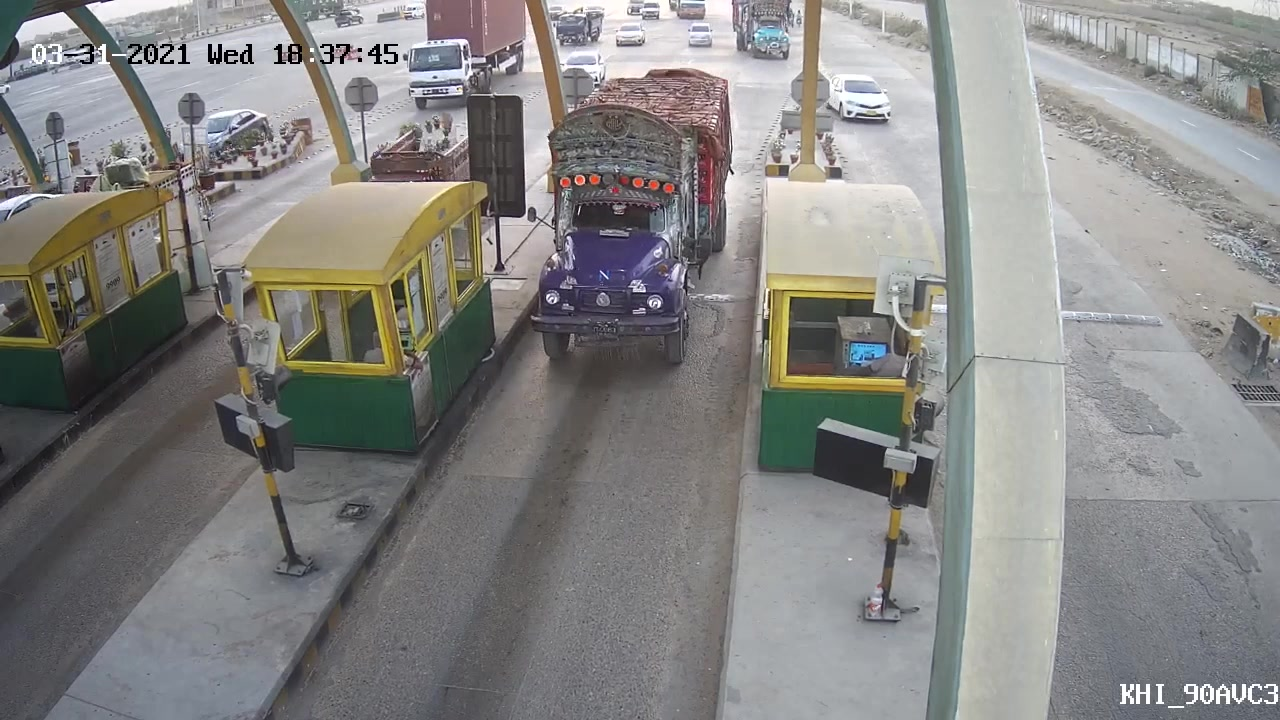F5: (515, 85, 731, 375)
